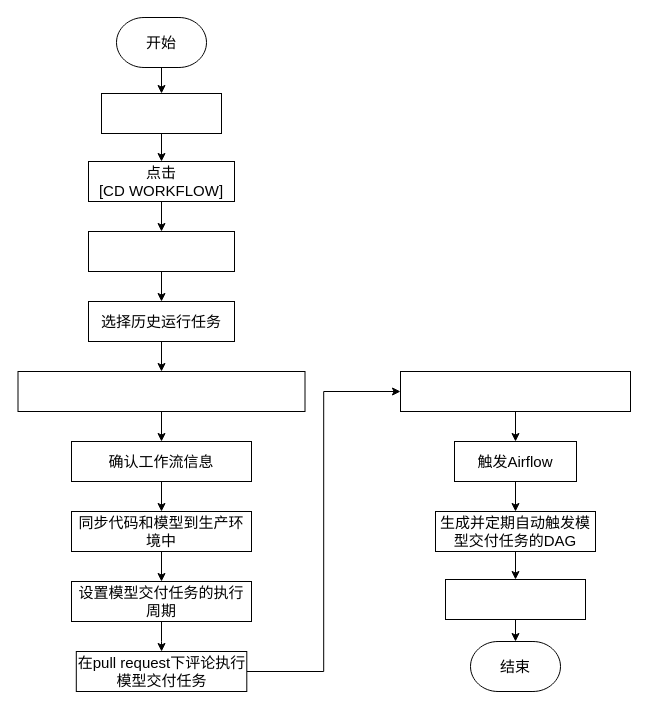
The diagram is 648 pixels wide and 709 high, and some of its shapes have lost their labels. Here are the shapes that lost their labels. From the top down, the centre of each, then its label:
point 161,113: 进入系统主页面
point 161,251: 选择模型管道
point 161,391: 点击 [RELEASE CD MODEL]
point 515,391: Jenkins感知评论
point 515,599: 更新模型交付任务查询页面信息
